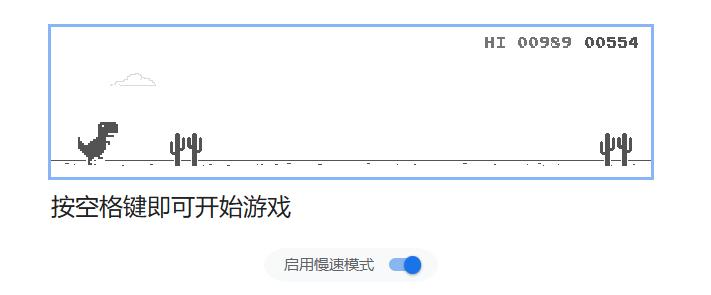cactus: (169, 132, 204, 167), (598, 133, 632, 169)
dino: (73, 119, 120, 165)
